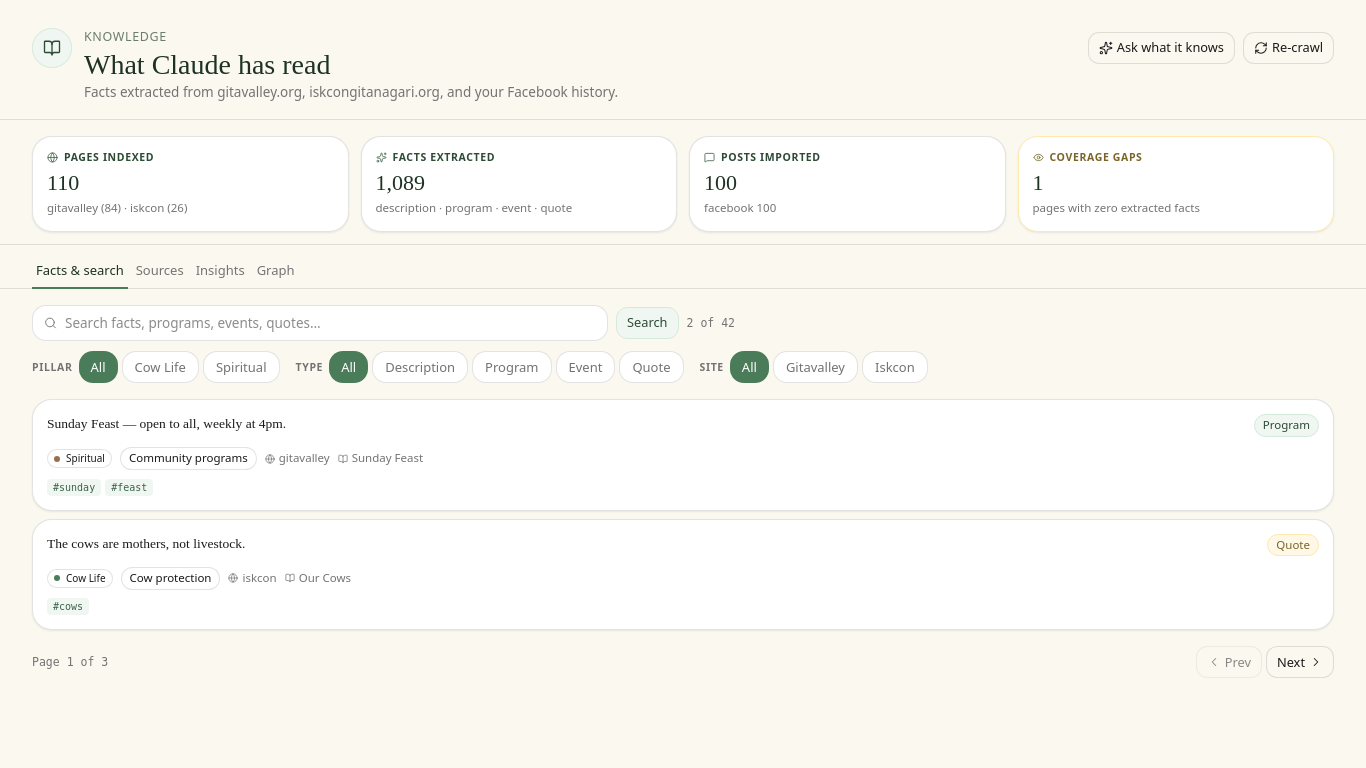
Test: KnowledgePage › shows a calm note for search_only answers
Step 1. Click the button "Ask what it knows" → coordinates (1161, 48), box [1088,32,1235,64]
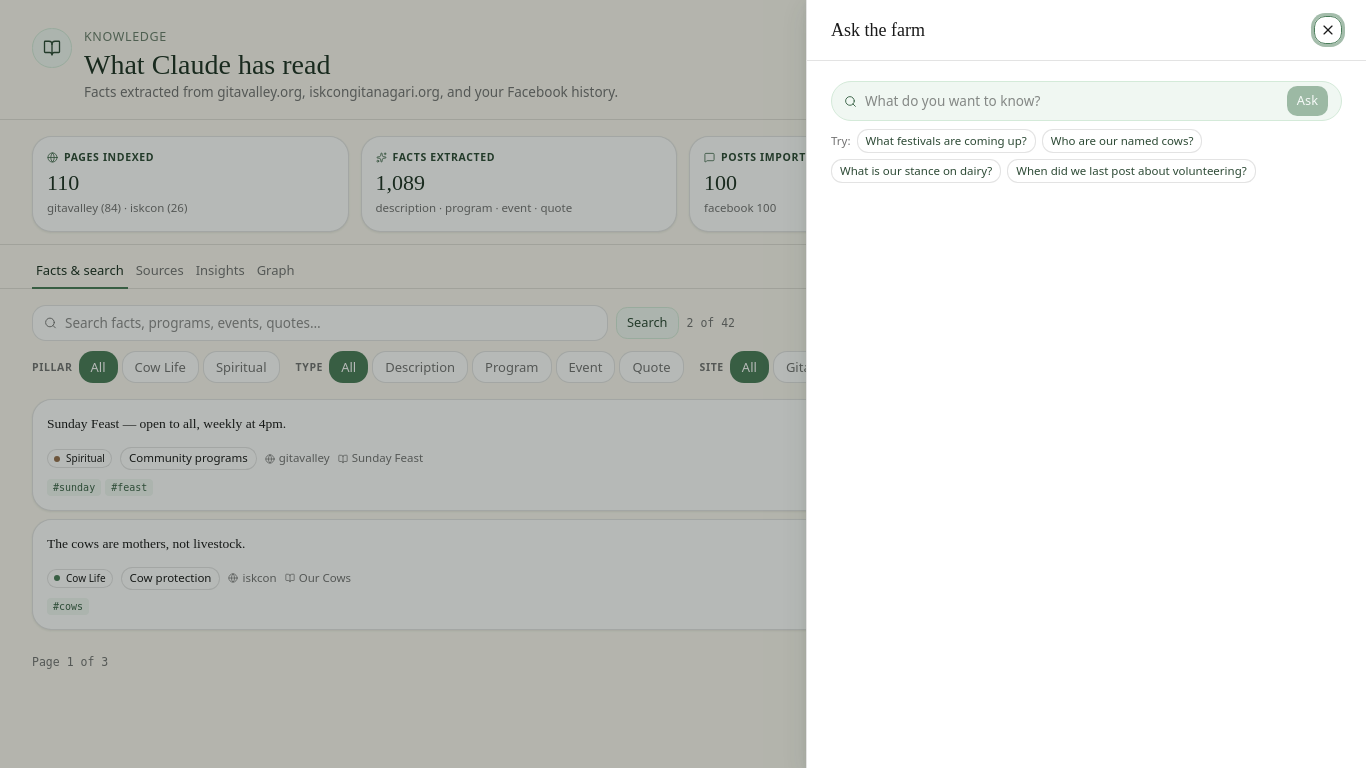
Step 2. Click the button "Who are our named cows?" → coordinates (1122, 141), box [1042,129,1202,153]
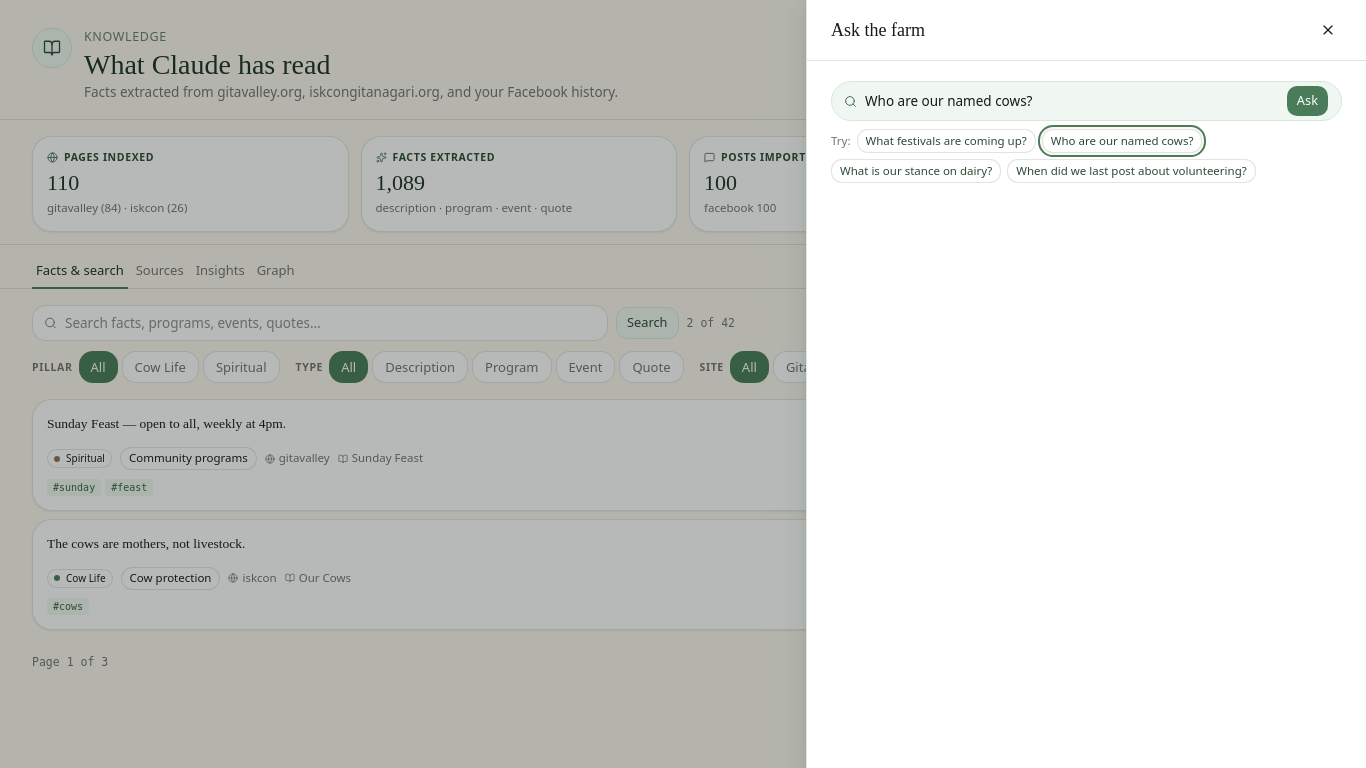
Step 3. Click the button "Ask" → coordinates (1307, 101), box [1286,85,1329,117]
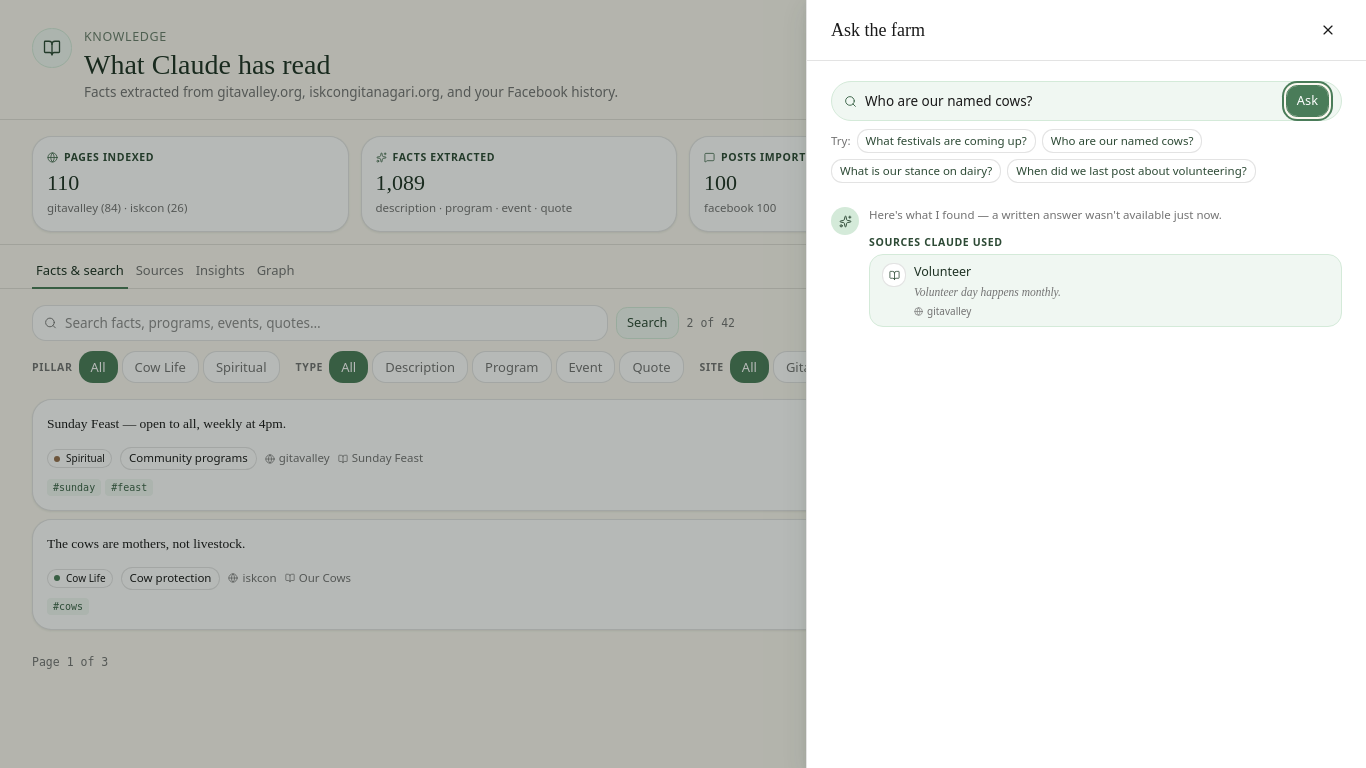
Expected: the text "a written answer wasn't available just now" is shown, [869,207,1222,222]
Expected: the text "Volunteer" is shown, [914,263,971,280]
